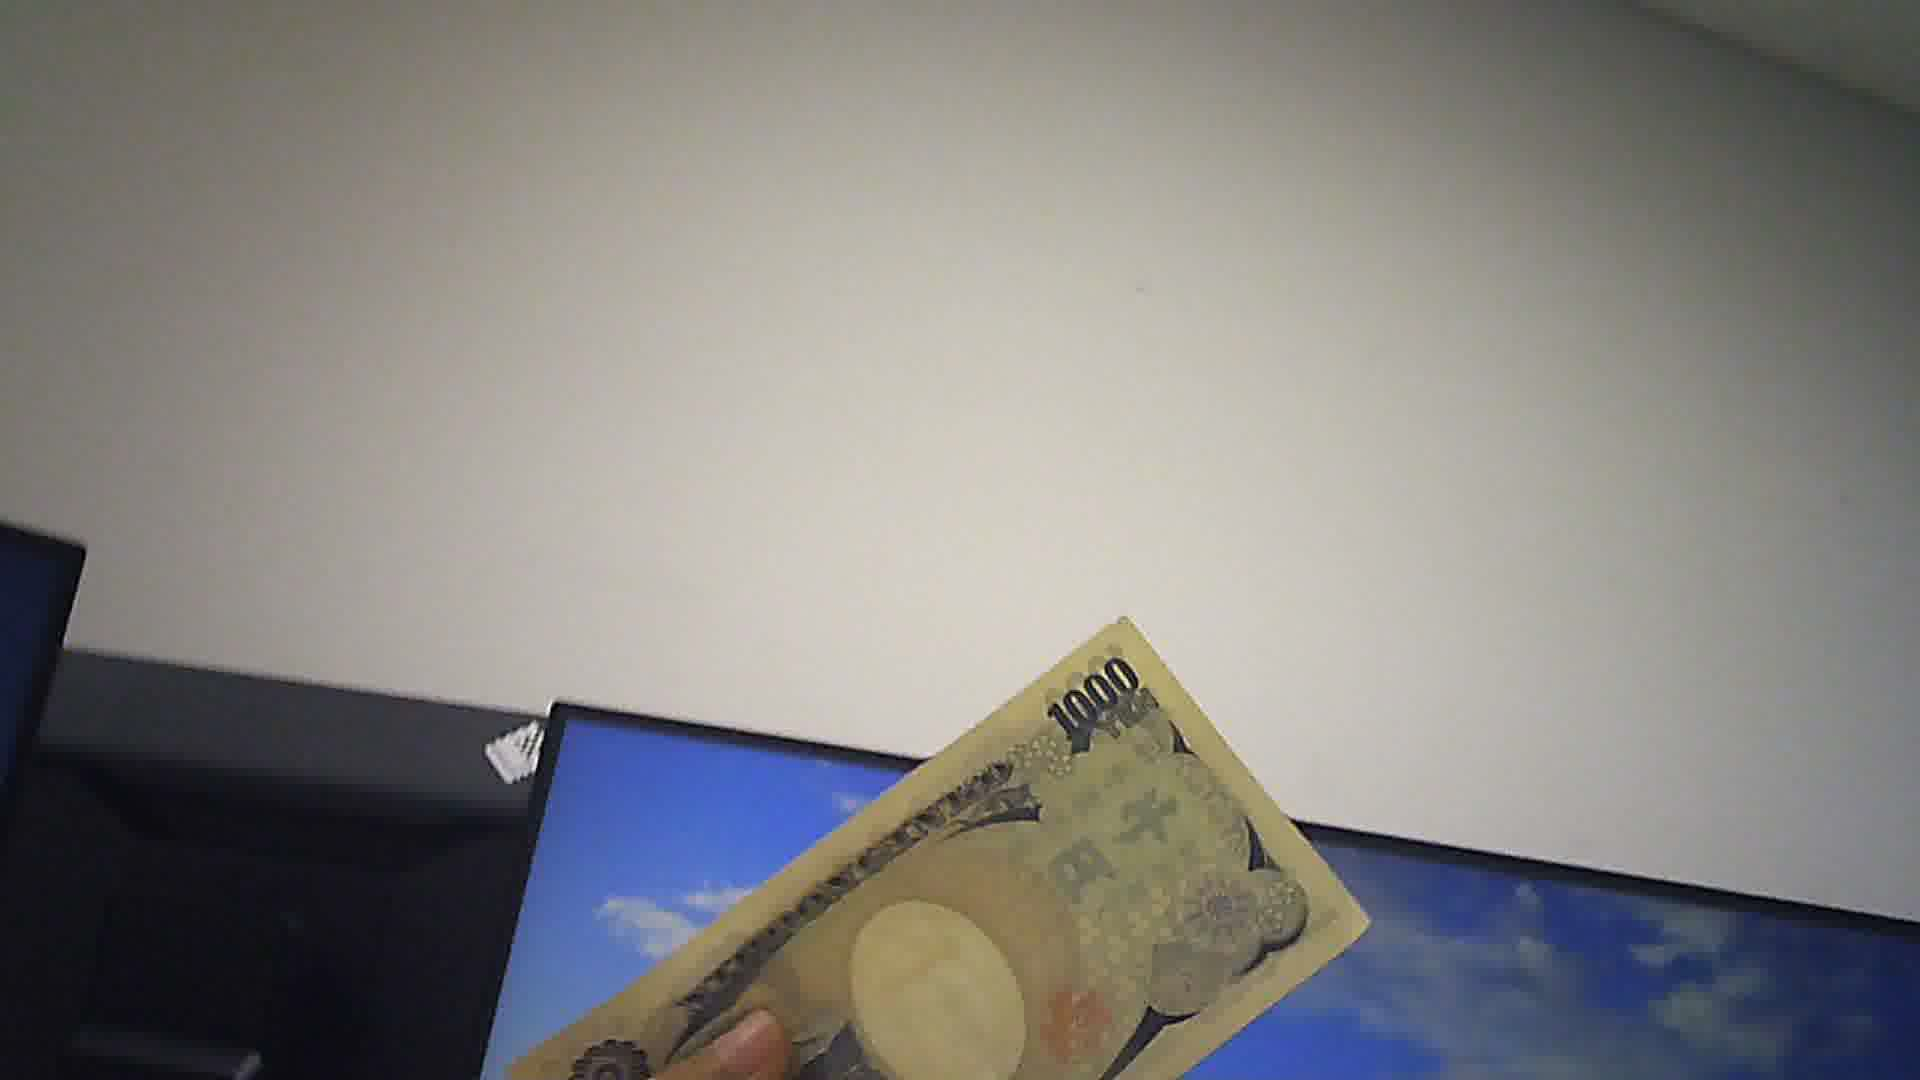1,000 Yen: (537, 622, 1342, 1079)
